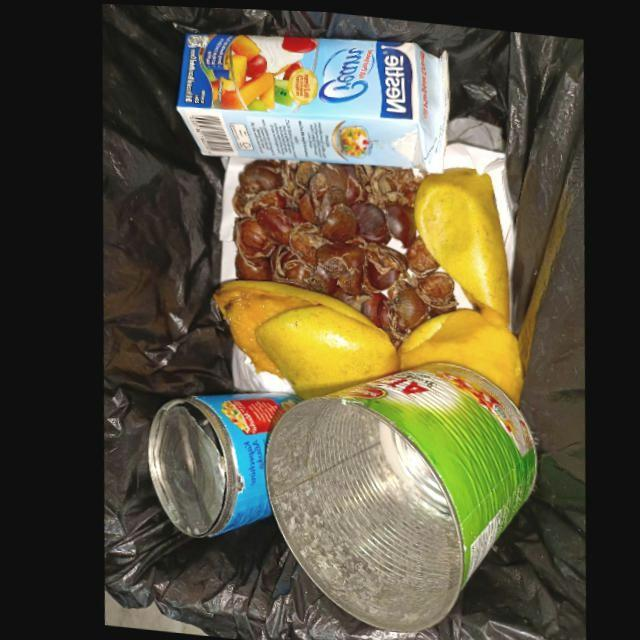aluminum: (257, 359, 530, 631), (140, 390, 295, 539)
